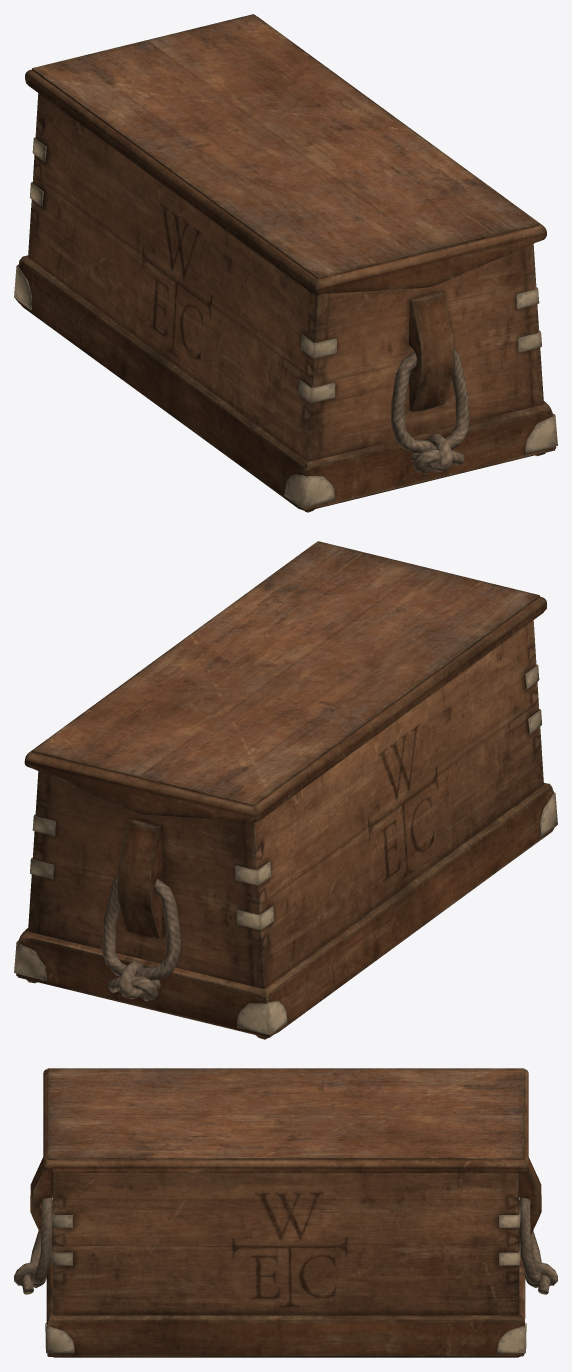
The model's file is wooden_crate_02.glb.
3 views of the same model, one above another, from view 1: azimuth 30°, elevation 25°; view 2: azimuth 150°, elevation 25°; view 3: azimuth 270°, elevation 25° (orthographic). The views are drawn at different scales.
Visible parts, largest first — view 1: wooden_crate_02_crate, wooden_crate_02_lid; view 2: wooden_crate_02_crate, wooden_crate_02_lid; view 3: wooden_crate_02_crate, wooden_crate_02_lid.
Part boxes in pixels (x1,y1,x2,y2): wooden_crate_02_crate: (14,93,557,512); wooden_crate_02_lid: (25,14,546,295); wooden_crate_02_crate: (14,620,557,1039); wooden_crate_02_lid: (24,541,546,821); wooden_crate_02_crate: (14,1157,557,1357); wooden_crate_02_lid: (43,1068,528,1172).
Size of the model in its own units: 0.5291 by 0.464 by 1.17.
Materials: 1 (1 with a texture image).
